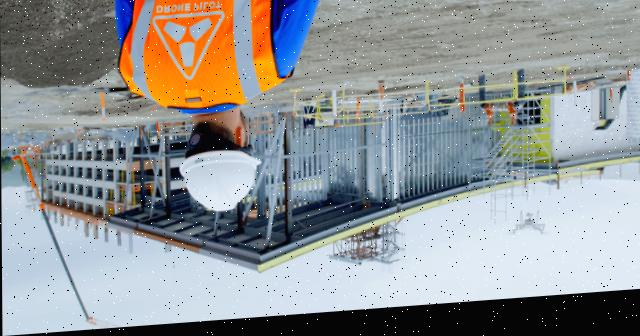drone: (507, 216, 548, 249)
